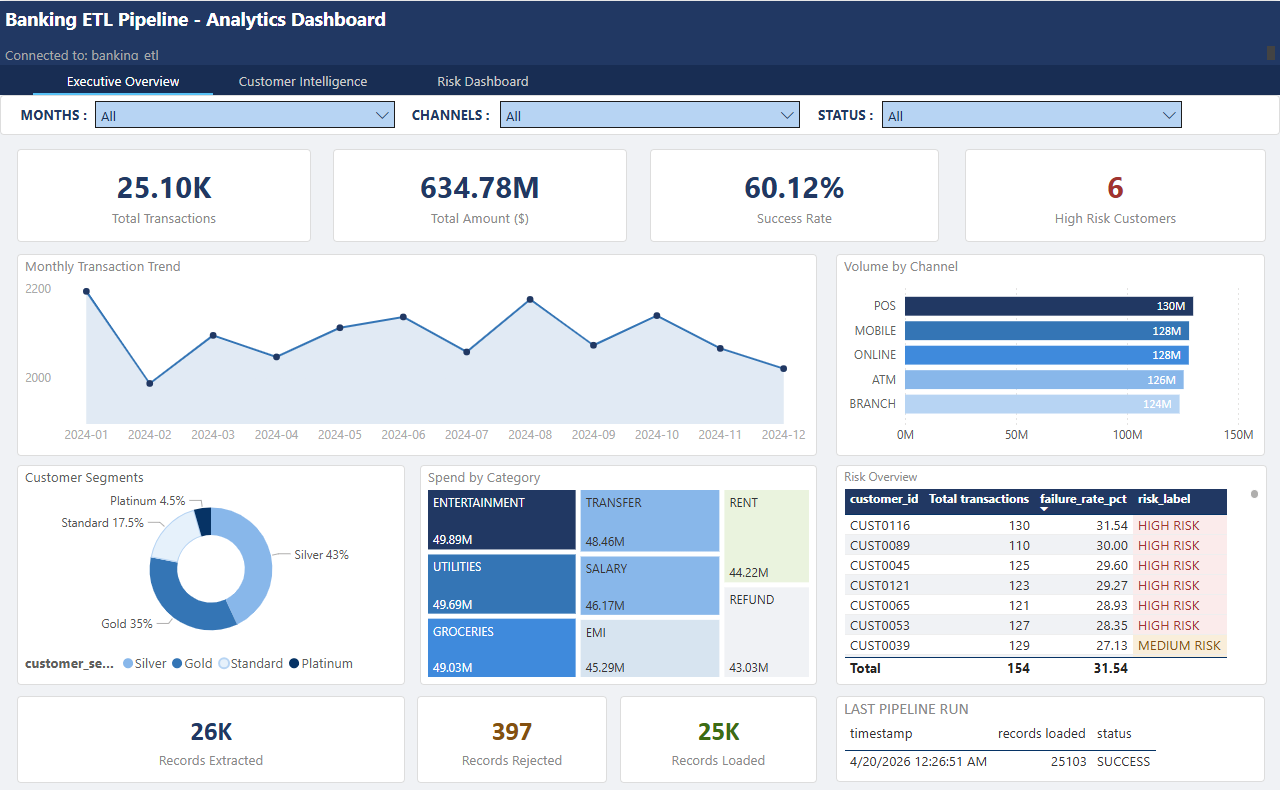

Layout of this report page (visuals, bound fields, positions):
{"tool":"powerbi","page":{"name":"Executive Summary","canvas":[1280,800],"ordinal":0},"visuals":[{"type":"textbox","box":[0,0,1280,40],"z":0},{"type":"textbox","box":[0,40,1280,24],"z":1000},{"type":"textbox","box":[573,64,707,30],"z":2000},{"type":"textbox","box":[0,64,33,30],"z":3000},{"type":"actionButton","box":[393,64,180,30],"z":5000},{"type":"actionButton","box":[213,64,180,30],"z":6000},{"type":"actionButton","title":"Executive Overview","box":[33,64,180,30],"z":7000},{"type":"shape","box":[33,40,180,106],"z":8000},{"type":"textbox","box":[0,94,1280,40],"z":9000},{"type":"slicer","fields":{"Values":["banking_etl vw_monthly_trend.txn_month"]},"box":[85,90,320,40],"z":10000},{"type":"slicer","fields":{"Values":["banking_etl vw_channel_performance.channel"]},"box":[490,90,320,40],"z":11000},{"type":"slicer","fields":{"Values":["banking_etl fact_transactions.status"]},"box":[872,90,320,40],"z":12000},{"type":"card","fields":{"Values":["Count(banking_etl fact_transactions.transaction_id)"]},"box":[17,148,294,93],"z":13000},{"type":"card","fields":{"Values":["Sum(banking_etl fact_transactions.amount)"]},"box":[333,148,294,93],"z":14000},{"type":"card","fields":{"Values":["banking_etl etl_audit_log.Success Rate"]},"box":[650,148,289,93],"z":15000},{"type":"card","fields":{"Values":["banking_etl etl_audit_log.High Risk Customers"]},"box":[965,148,301,93],"z":16000},{"type":"lineChart","title":"Monthly Transaction Trend","fields":{"Category":["banking_etl vw_monthly_trend.txn_month"],"Y":["Max(banking_etl vw_monthly_trend.total_transactions)"]},"box":[17,253,800,202],"z":17000},{"type":"clusteredBarChart","title":"Volume by Channel","fields":{"Category":["banking_etl vw_channel_performance.channel"],"Y":["Sum(banking_etl vw_channel_performance.total_volume)"]},"box":[836,253,429,202],"z":18000},{"type":"donutChart","title":"Customer Segments","fields":{"Category":["banking_etl vw_customer_segments.customer_segment"],"Y":["CountNonNull(banking_etl vw_customer_segments.customer_id)"]},"box":[17,464,388,220],"z":19000},{"type":"treemap","title":"Spend by Category","fields":{"Group":["banking_etl vw_category_breakdown.category"],"Values":["Max(banking_etl vw_category_breakdown.total_volume)"]},"box":[420,464,397,220],"z":20000},{"type":"tableEx","title":"Risk Overview","fields":{"Values":["banking_etl vw_risk_customers.customer_id","Max(banking_etl vw_risk_customers.total_txns)","Max(banking_etl vw_risk_customers.failure_rate_pct)","banking_etl vw_risk_customers.risk_label"]},"box":[836,464,431,220],"z":21000},{"type":"card","title":"Records Extracted","fields":{"Values":["Sum(banking_etl etl_audit_log.records_extracted)"]},"box":[17,695,388,87],"z":21001},{"type":"card","title":"Records Extracted","fields":{"Values":["Sum(banking_etl etl_audit_log.records_rejected)"]},"box":[417,695,190,87],"z":21002},{"type":"card","title":"Records Extracted","fields":{"Values":["Sum(banking_etl etl_audit_log.records_loaded)"]},"box":[620,695,197,87],"z":21003},{"type":"tableEx","title":"LAST PIPELINE RUN","fields":{"Values":["banking_etl etl_audit_log.run_timestamp","Sum(banking_etl etl_audit_log.records_loaded)","banking_etl etl_audit_log.status"]},"box":[836,695,429,86],"z":21004}]}

Visuals, with their boxes on the page's 1280x800 design canvas (x1, y1, x2, y2). These are canvas units, not pixel positions in the 1280x790 screenshot, which may show the page scaled, cropped or inside an application window:
textbox: 0/0/1280/40
textbox: 0/40/1280/64
textbox: 573/64/1280/94
textbox: 0/64/33/94
actionButton: 393/64/573/94
actionButton: 213/64/393/94
"Executive Overview" actionButton: 33/64/213/94
shape: 33/40/213/146
textbox: 0/94/1280/134
slicer - banking_etl vw_monthly_trend.txn_month: 85/90/405/130
slicer - banking_etl vw_channel_performance.channel: 490/90/810/130
slicer - banking_etl fact_transactions.status: 872/90/1192/130
card - Count(banking_etl fact_transactions.transaction_id): 17/148/311/241
card - Sum(banking_etl fact_transactions.amount): 333/148/627/241
card - banking_etl etl_audit_log.Success Rate: 650/148/939/241
card - banking_etl etl_audit_log.High Risk Customers: 965/148/1266/241
"Monthly Transaction Trend" lineChart: 17/253/817/455
"Volume by Channel" clusteredBarChart: 836/253/1265/455
"Customer Segments" donutChart: 17/464/405/684
"Spend by Category" treemap: 420/464/817/684
"Risk Overview" tableEx: 836/464/1267/684
"Records Extracted" card: 17/695/405/782
"Records Extracted" card: 417/695/607/782
"Records Extracted" card: 620/695/817/782
"LAST PIPELINE RUN" tableEx: 836/695/1265/781
